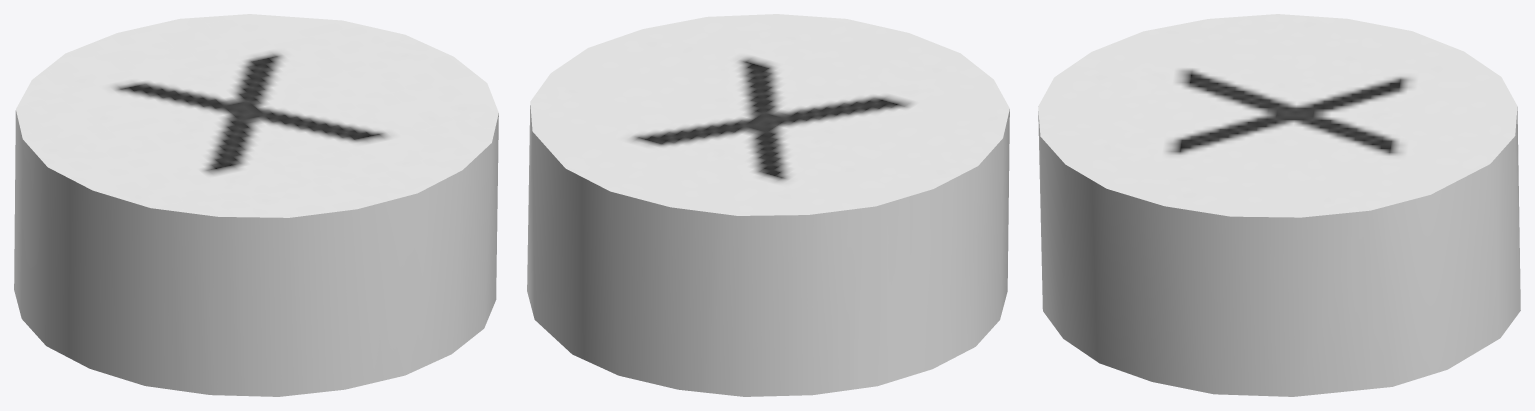
3 renders of one model, left to right at view 1: azimuth 30°, elevation 25°; view 2: azimuth 150°, elevation 25°; view 3: azimuth 270°, elevation 25°, orthographic.
Bounding box in the file's own units: 0.00919 × 0.0038 × 0.00921.
Materials: 1 (1 with a texture image).
